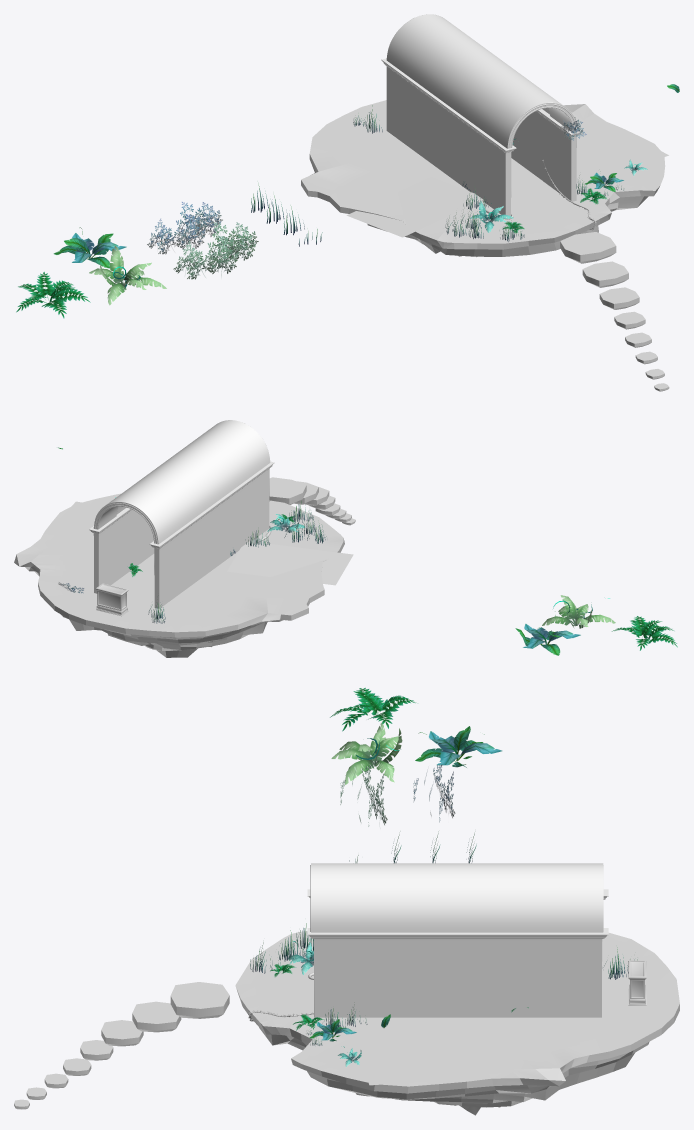
File: room4.glb
The picture shows the model from 3 angles, top to bottom: view 1: azimuth 30°, elevation 25°; view 2: azimuth 150°, elevation 25°; view 3: azimuth 270°, elevation 25°; orthographic projection. The views are drawn at different scales.
Visible parts, largest first — view 1: Cube.001_Mesh.163_remesh, Арка.001_Окружность.001, Арка.002_Окружность.005, Арка.003_Окружность.003, CRACK1, Mesh_BushMisc_04_Mesh.006, CRACK1.001, Mesh_BushMisc_02_Mesh.005, Mesh_FernBlue_02_Mesh.008, Mesh_Fern_01.003_Mesh.034, pCube2.1, Mesh_Fern_02.002_Mesh.035 (+3 smaller); view 2: Cube.001_Mesh.163_remesh, Арка.001_Окружность.001, Арка.002_Окружность.005, Арка.003_Окружность.003, CRACK1, Mesh_FernBlue_02_Mesh.008, Mesh_Fern_01.003_Mesh.034, table_Cube.001, Mesh_Fern_02.002_Mesh.035, pCube2.1, CRACK1.001, CRACK3.001; view 3: Cube.001_Mesh.163_remesh, Арка.003_Окружность.003, Арка.001_Окружность.001, CRACK1.001, Mesh_FernBlue_02_Mesh.008, pCube2.1, Mesh_Fern_02.002_Mesh.035, Mesh_Fern_01.003_Mesh.034, pasted__pCube2.1, pasted__pasted__pCube2.1, table_Cube.001, CRACK2 (+3 smaller).
Part boxes in pixels (box(x1,y1,x2,y2)): Cube.001_Mesh.163_remesh: box(301, 100, 665, 257); Арка.001_Окружность.001: box(386, 14, 577, 148); Арка.002_Окружность.005: box(381, 58, 516, 215); Арка.003_Окружность.003: box(511, 109, 581, 201); CRACK1: box(346, 176, 483, 237); Mesh_BushMisc_04_Mesh.006: box(173, 222, 258, 279); CRACK1.001: box(576, 137, 668, 176); Mesh_BushMisc_02_Mesh.005: box(147, 201, 222, 254); Mesh_FernBlue_02_Mesh.008: box(89, 246, 166, 305); Mesh_Fern_01.003_Mesh.034: box(16, 271, 90, 318); pCube2.1: box(560, 232, 616, 263); Mesh_Fern_02.002_Mesh.035: box(53, 227, 126, 268); Cube.001_Mesh.163_remesh: box(14, 493, 344, 657); Арка.001_Окружность.001: box(93, 420, 270, 544); Арка.002_Окружность.005: box(149, 461, 274, 608); Арка.003_Окружность.003: box(89, 507, 154, 593); CRACK1: box(227, 541, 353, 585); Mesh_FernBlue_02_Mesh.008: box(542, 595, 615, 628); Mesh_Fern_01.003_Mesh.034: box(611, 616, 677, 650); table_Cube.001: box(96, 583, 128, 616); Mesh_Fern_02.002_Mesh.035: box(515, 611, 580, 655); pCube2.1: box(269, 477, 306, 504); CRACK1.001: box(58, 501, 103, 526); CRACK3.001: box(125, 579, 168, 604); Cube.001_Mesh.163_remesh: box(235, 931, 679, 1115); Арка.003_Окружность.003: box(307, 928, 608, 1017); Арка.001_Окружность.001: box(310, 863, 603, 932); CRACK1.001: box(354, 1038, 434, 1085); Mesh_FernBlue_02_Mesh.008: box(331, 719, 402, 784); pCube2.1: box(170, 982, 229, 1018); Mesh_Fern_02.002_Mesh.035: box(415, 726, 502, 767); Mesh_Fern_01.003_Mesh.034: box(330, 687, 415, 731); pasted__pCube2.1: box(132, 1001, 181, 1032); pasted__pasted__pCube2.1: box(101, 1020, 143, 1046); table_Cube.001: box(628, 960, 646, 1005); CRACK2: box(390, 1017, 480, 1031).
Size of the model in its own units: 2666 by 773 by 1892.
Materials: 11 (2 with a texture image).
